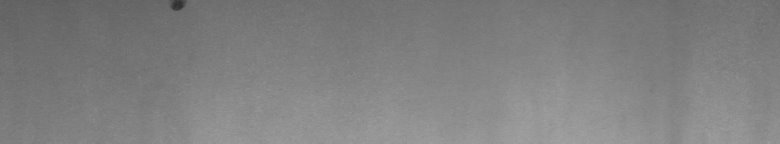fi: (165, 4, 188, 16)
